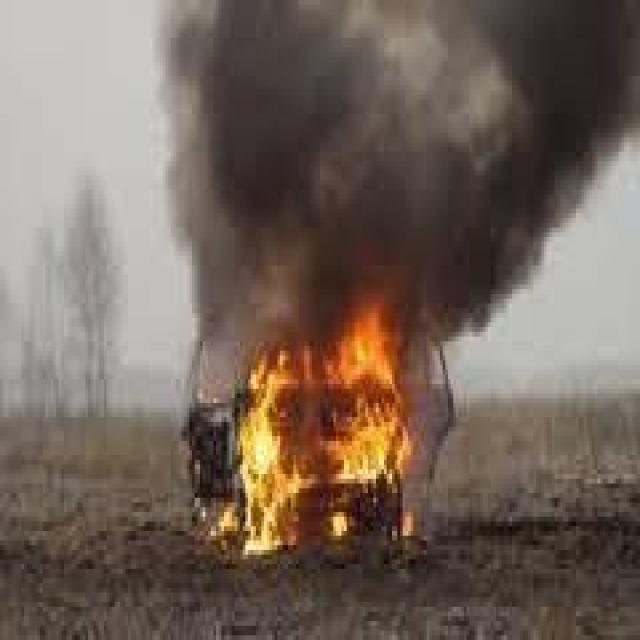fire: (234, 281, 416, 561), (200, 484, 234, 534)
smoke: (139, 3, 632, 333)
